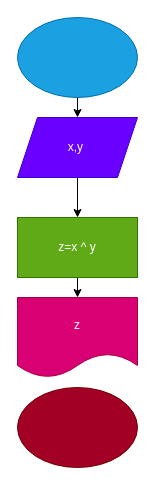
Some shapes in this 155 by 485 pixel diagram are drawn without their labels. Each missing label, with the box of its shape:
FIN: (16, 386, 138, 468)
INICIO: (16, 16, 138, 98)
